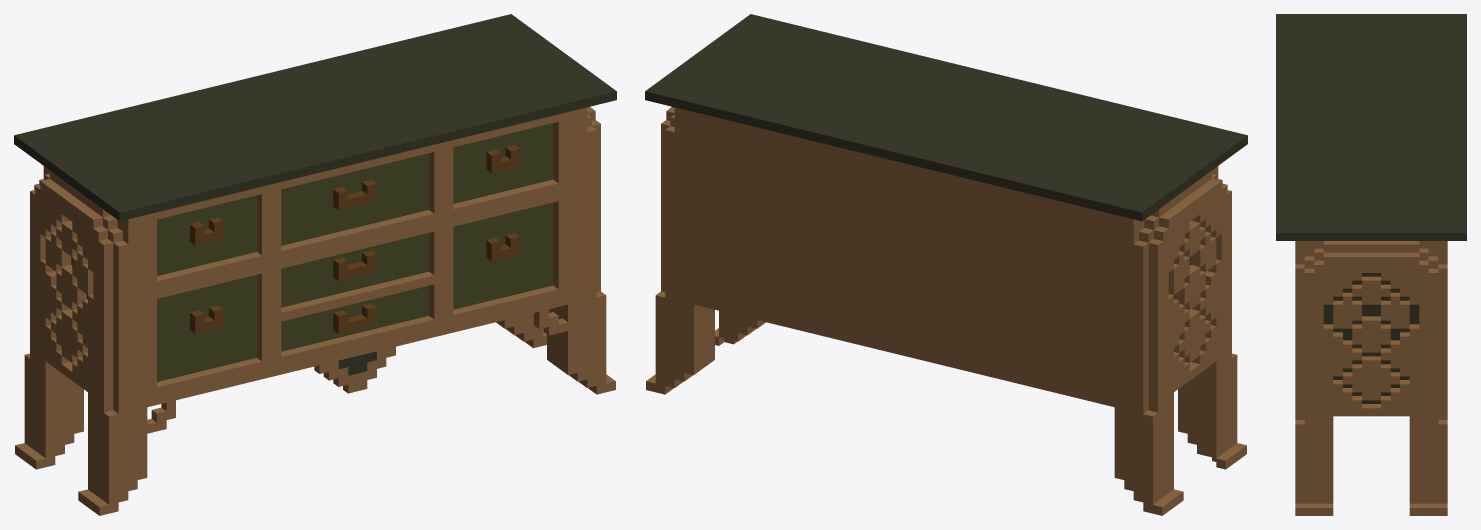
Rendered from commode.fbx.
3 views of the same model, side by side, from view 1: azimuth 30°, elevation 25°; view 2: azimuth 150°, elevation 25°; view 3: azimuth 270°, elevation 25° (orthographic). The views are drawn at different scales.
Visible parts, largest first — view 1: Commode; view 2: Commode; view 3: Commode.
Boxes of the visible parts, x1,y1,x2,y2 form: Commode: (14, 14, 616, 515); Commode: (645, 14, 1247, 515); Commode: (1276, 14, 1466, 515).
Size of the model in its own units: 175 by 100 by 62.
Materials: 1 (1 with a texture image).
